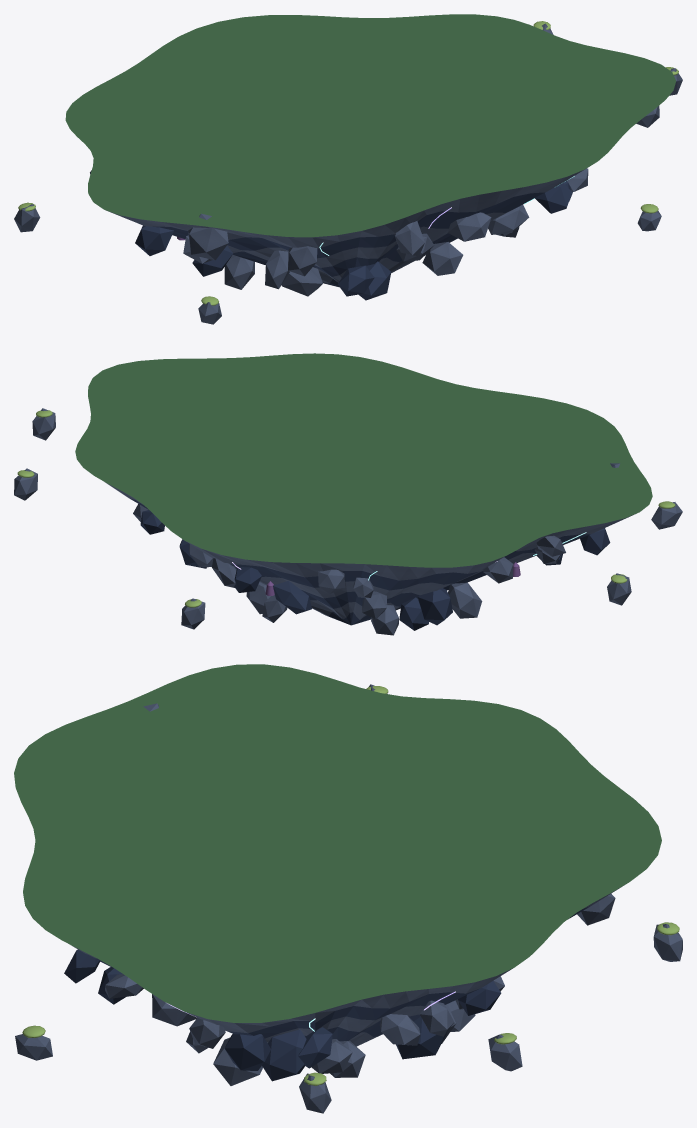
Rendered from workshop-island.glb.
The picture shows the model from 3 angles, top to bottom: view 1: azimuth 30°, elevation 25°; view 2: azimuth 150°, elevation 25°; view 3: azimuth 270°, elevation 25°; orthographic projection. The views are drawn at different scales.
Visible parts, largest first — view 1: WorkshopIsland_grass, WorkshopIsland_stone, WorkshopIsland_dark, SatelliteRock_4_stone; view 2: WorkshopIsland_grass, WorkshopIsland_stone, WorkshopIsland_dark, SatelliteRock_1_stone, SatelliteRock_5_stone, SatelliteRock_2_stone, SatelliteRock_0_stone, SatelliteRock_4_stone; view 3: WorkshopIsland_grass, WorkshopIsland_stone, WorkshopIsland_dark, SatelliteRock_5_stone, SatelliteRock_0_stone, SatelliteRock_2_stone, SatelliteRock_3_stone.
Part boxes in pixels (bbox=[...]): WorkshopIsland_grass: bbox=[65, 14, 675, 237]; WorkshopIsland_stone: bbox=[90, 106, 659, 296]; WorkshopIsland_dark: bbox=[135, 181, 572, 300]; SatelliteRock_4_stone: bbox=[14, 204, 40, 232]; WorkshopIsland_grass: bbox=[75, 353, 652, 567]; WorkshopIsland_stone: bbox=[105, 463, 636, 635]; WorkshopIsland_dark: bbox=[129, 498, 610, 630]; SatelliteRock_1_stone: bbox=[651, 502, 682, 529]; SatelliteRock_5_stone: bbox=[14, 468, 37, 500]; SatelliteRock_2_stone: bbox=[181, 598, 205, 629]; SatelliteRock_0_stone: bbox=[32, 408, 55, 440]; SatelliteRock_4_stone: bbox=[607, 573, 631, 605]; WorkshopIsland_grass: bbox=[14, 664, 661, 1022]; WorkshopIsland_stone: bbox=[72, 703, 624, 1085]; WorkshopIsland_dark: bbox=[64, 906, 589, 1081]; SatelliteRock_5_stone: bbox=[488, 1034, 522, 1071]; SatelliteRock_0_stone: bbox=[299, 1073, 331, 1113]; SatelliteRock_2_stone: bbox=[653, 924, 682, 961]; SatelliteRock_3_stone: bbox=[15, 1034, 52, 1060].
Size of the model in its own units: 24.34 by 6.29 by 16.99.
7 materials, 1 textured.
